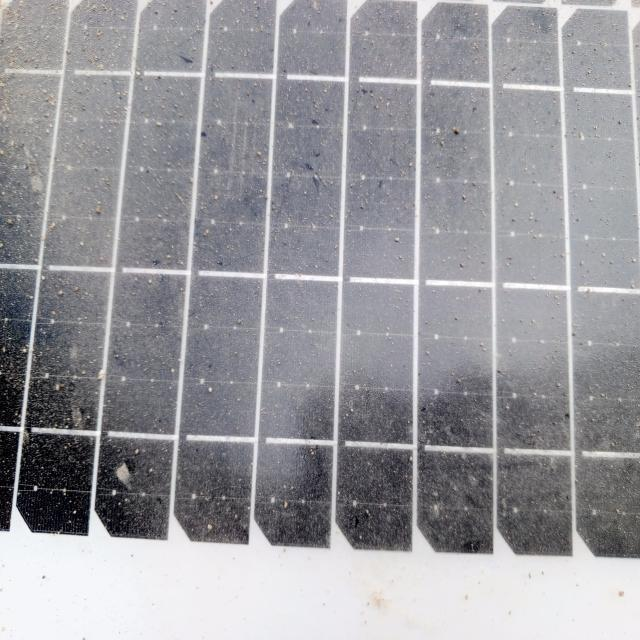Surface Contaminant: (63, 14, 639, 573)
